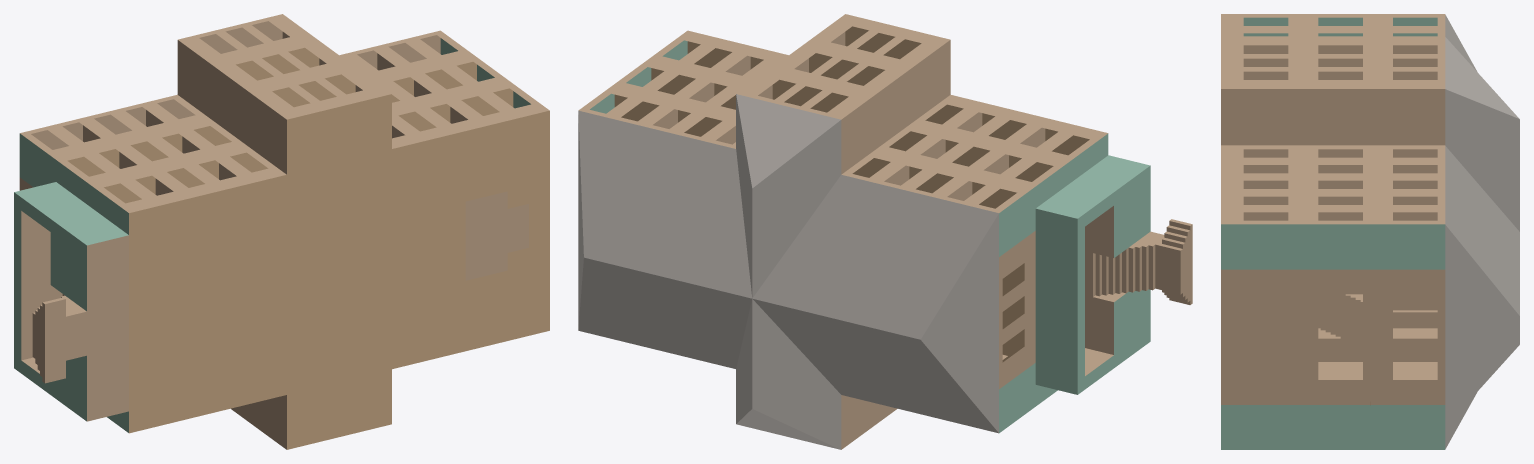
File: Stillgram Dorm.fbx
The picture shows the model from 3 angles, left to right: view 1: azimuth 30°, elevation 25°; view 2: azimuth 150°, elevation 25°; view 3: azimuth 270°, elevation 25°; orthographic projection. The views are drawn at different scales.
Visible parts, largest first — view 1: imagetostl_mesh243, imagetostl_mesh137, imagetostl_mesh63, imagetostl_mesh204, imagetostl_mesh224, imagetostl_mesh67, imagetostl_mesh58, imagetostl_mesh207, imagetostl_mesh244, imagetostl_mesh203, imagetostl_mesh208, imagetostl_mesh218 (+49 smaller); view 2: imagetostl_mesh44, imagetostl_mesh50, imagetostl_mesh47, imagetostl_mesh49, imagetostl_mesh46, imagetostl_mesh62, imagetostl_mesh42, imagetostl_mesh38, imagetostl_mesh63, imagetostl_mesh43, imagetostl_mesh412, imagetostl_mesh58 (+37 smaller); view 3: imagetostl_mesh136, imagetostl_mesh45, imagetostl_mesh414, imagetostl_mesh413, imagetostl_mesh35, imagetostl_mesh44, imagetostl_mesh320, imagetostl_mesh390, imagetostl_mesh253, imagetostl_mesh280, imagetostl_mesh350, imagetostl_mesh213 (+46 smaller).
Boxes of the visible parts, bbox=[...] form: imagetostl_mesh243: bbox=[129, 154, 549, 389]; imagetostl_mesh137: bbox=[87, 235, 128, 421]; imagetostl_mesh63: bbox=[14, 192, 86, 421]; imagetostl_mesh204: bbox=[287, 369, 391, 449]; imagetostl_mesh224: bbox=[287, 94, 391, 174]; imagetostl_mesh67: bbox=[21, 211, 62, 360]; imagetostl_mesh58: bbox=[14, 182, 128, 245]; imagetostl_mesh207: bbox=[360, 317, 423, 376]; imagetostl_mesh244: bbox=[255, 167, 318, 226]; imagetostl_mesh203: bbox=[486, 286, 549, 345]; imagetostl_mesh208: bbox=[423, 302, 486, 361]; imagetostl_mesh218: bbox=[423, 126, 486, 185]; imagetostl_mesh44: bbox=[578, 110, 752, 298]; imagetostl_mesh50: bbox=[752, 175, 998, 339]; imagetostl_mesh47: bbox=[752, 298, 998, 433]; imagetostl_mesh49: bbox=[578, 257, 751, 368]; imagetostl_mesh46: bbox=[920, 214, 998, 432]; imagetostl_mesh62: bbox=[1035, 208, 1077, 394]; imagetostl_mesh42: bbox=[752, 120, 841, 297]; imagetostl_mesh38: bbox=[752, 299, 841, 449]; imagetostl_mesh63: bbox=[1077, 165, 1150, 394]; imagetostl_mesh43: bbox=[736, 94, 840, 188]; imagetostl_mesh412: bbox=[999, 231, 1035, 389]; imagetostl_mesh58: bbox=[1036, 155, 1150, 218]; imagetostl_mesh136: bbox=[1221, 269, 1295, 404]; imagetostl_mesh45: bbox=[1445, 225, 1519, 448]; imagetostl_mesh414: bbox=[1295, 269, 1370, 404]; imagetostl_mesh413: bbox=[1370, 269, 1445, 404]; imagetostl_mesh35: bbox=[1445, 89, 1519, 231]; imagetostl_mesh44: bbox=[1445, 146, 1519, 315]; imagetostl_mesh320: bbox=[1295, 89, 1370, 145]; imagetostl_mesh390: bbox=[1370, 89, 1445, 145]; imagetostl_mesh253: bbox=[1221, 89, 1295, 145]; imagetostl_mesh280: bbox=[1295, 224, 1370, 269]; imagetostl_mesh350: bbox=[1370, 224, 1445, 269]; imagetostl_mesh213: bbox=[1221, 224, 1295, 269].
Size of the model in its own units: 144000 by 90000 by 72000.
